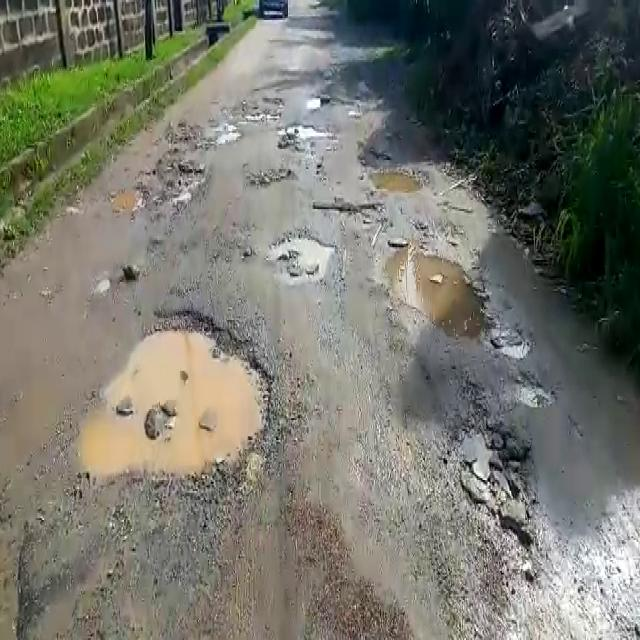Pothole: (74, 306, 282, 487), (374, 226, 497, 344), (134, 153, 206, 208), (272, 232, 332, 280), (368, 164, 434, 198), (323, 200, 393, 230), (508, 370, 553, 410), (242, 165, 300, 190), (107, 184, 145, 218), (279, 120, 337, 140)
